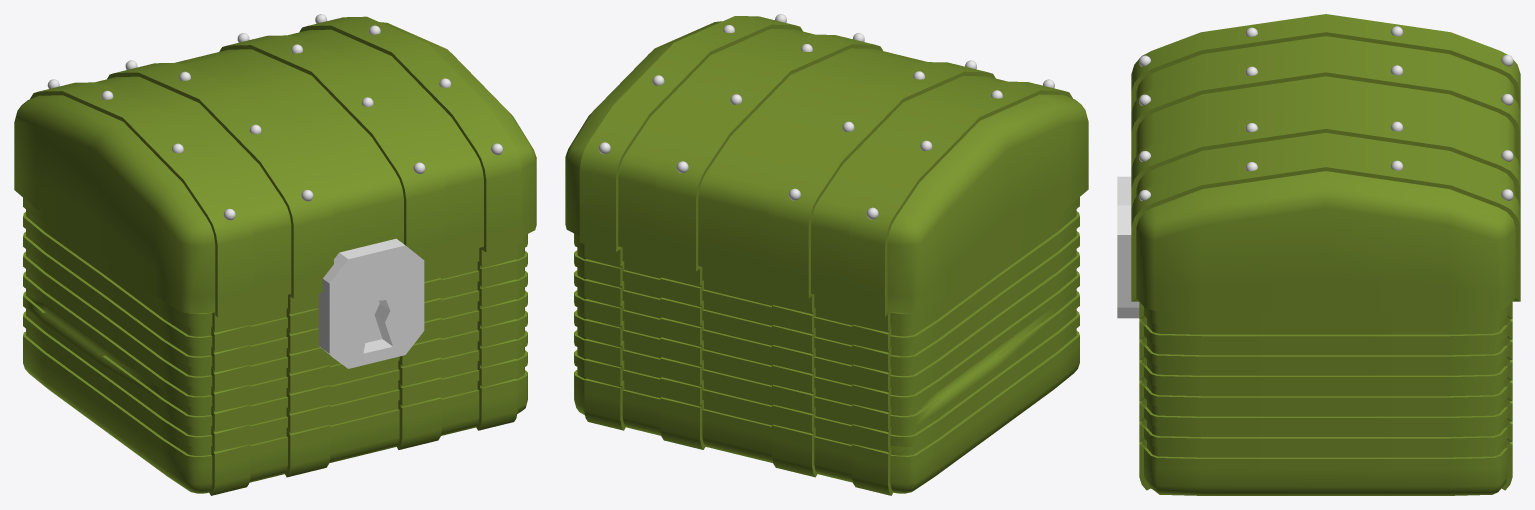
The model's file is GoalZone.fbx.
3 renders of one model, left to right at view 1: azimuth 30°, elevation 25°; view 2: azimuth 150°, elevation 25°; view 3: azimuth 270°, elevation 25°, orthographic. The views are drawn at different scales.
Parts seen in each view (by area): view 1: GoalZone, Box001, Object002; view 2: GoalZone, Object002; view 3: GoalZone, Box001, Object002.
Part boxes in pixels (x1,y1,x2,y2): GoalZone: (14,16,536,495); Box001: (317,238,424,368); Object002: (47,14,502,220); GoalZone: (565,16,1088,495); Object002: (598,14,1054,219); GoalZone: (1131,14,1520,495); Box001: (1117,176,1139,318); Object002: (1139,26,1513,201).
Bounding box in the file's own units: 2.66 × 2.24 × 2.5.
